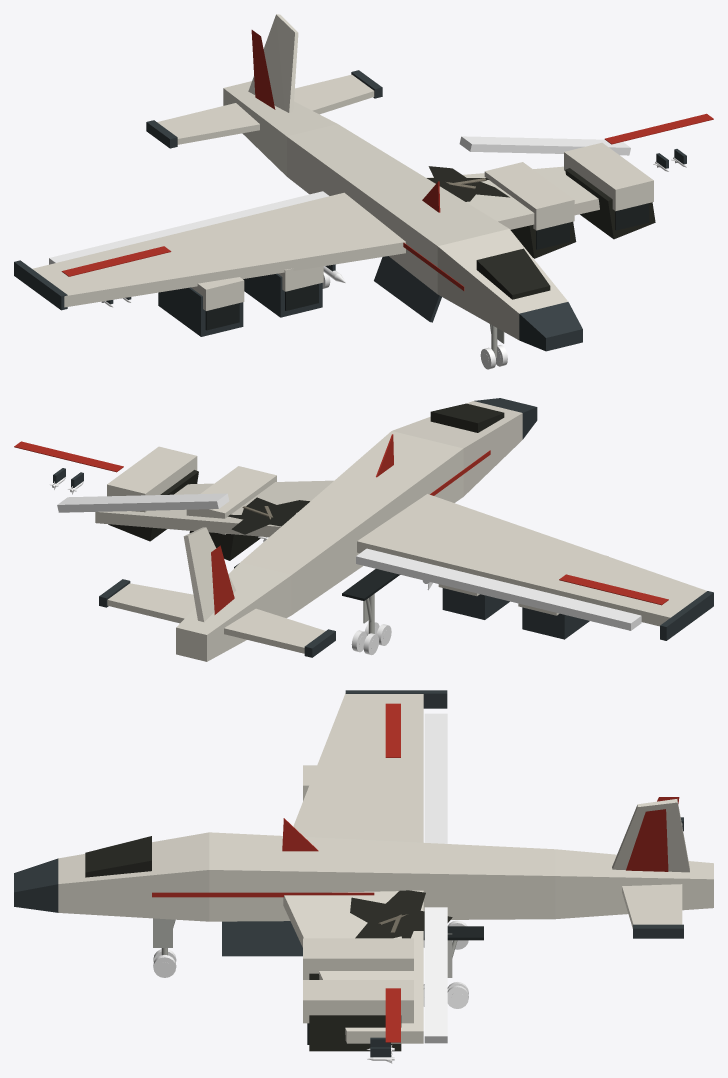
3 renders of one model, top to bottom at view 1: azimuth 30°, elevation 25°; view 2: azimuth 150°, elevation 25°; view 3: azimuth 270°, elevation 25°, orthographic. The views are drawn at different scales.
Visible parts, largest first — view 1: bomber-damaged-fleet-armor, bomber-damaged-fleet-machine, bomber-damaged-fleet-damage-charred, bomber-damaged-fleet-red, bomber-damaged-fleet-rubber, flap-right-painted, flap-left-painted; view 2: bomber-damaged-fleet-armor, bomber-damaged-fleet-machine, flap-left-painted, bomber-damaged-fleet-damage-charred, bomber-damaged-fleet-red, flap-right-painted, bomber-damaged-fleet-rubber; view 3: bomber-damaged-fleet-armor, bomber-damaged-fleet-damage-charred, bomber-damaged-fleet-machine, bomber-damaged-fleet-red, flap-right-painted, flap-left-painted, landing-gear-nose-fleet-edge, bomber-damaged-fleet-rubber.
Boxes of the visible parts, x1=… form: bomber-damaged-fleet-armor: x1=32, y1=14, x2=653, y2=339; bomber-damaged-fleet-machine: x1=14, y1=70, x2=686, y2=351; bomber-damaged-fleet-damage-charred: x1=427, y1=166, x2=655, y2=299; bomber-damaged-fleet-red: x1=61, y1=30, x2=713, y2=290; bomber-damaged-fleet-rubber: x1=205, y1=203, x2=649, y2=330; flap-right-painted: x1=459, y1=136, x2=630, y2=155; flap-left-painted: x1=49, y1=191, x2=329, y2=264; bomber-damaged-fleet-armor: x1=95, y1=401, x2=706, y2=661; bomber-damaged-fleet-machine: x1=53, y1=398, x2=713, y2=657; flap-left-painted: x1=356, y1=548, x2=641, y2=630; bomber-damaged-fleet-damage-charred: x1=108, y1=403, x2=504, y2=560; bomber-damaged-fleet-red: x1=14, y1=434, x2=668, y2=614; flap-right-painted: x1=57, y1=493, x2=229, y2=512; bomber-damaged-fleet-rubber: x1=234, y1=563, x2=399, y2=600; bomber-damaged-fleet-armor: x1=58, y1=693, x2=713, y2=1043; bomber-damaged-fleet-damage-charred: x1=85, y1=836, x2=452, y2=1051; bomber-damaged-fleet-machine: x1=14, y1=690, x2=683, y2=1057; bomber-damaged-fleet-red: x1=152, y1=703, x2=679, y2=1042; flap-right-painted: x1=424, y1=907, x2=447, y2=1043; flap-left-painted: x1=424, y1=713, x2=447, y2=843; landing-gear-nose-fleet-edge: x1=153, y1=918, x2=175, y2=955; bomber-damaged-fleet-rubber: x1=307, y1=926, x2=483, y2=1044.
Size of the model in its own units: 150 by 37.06 by 126.
